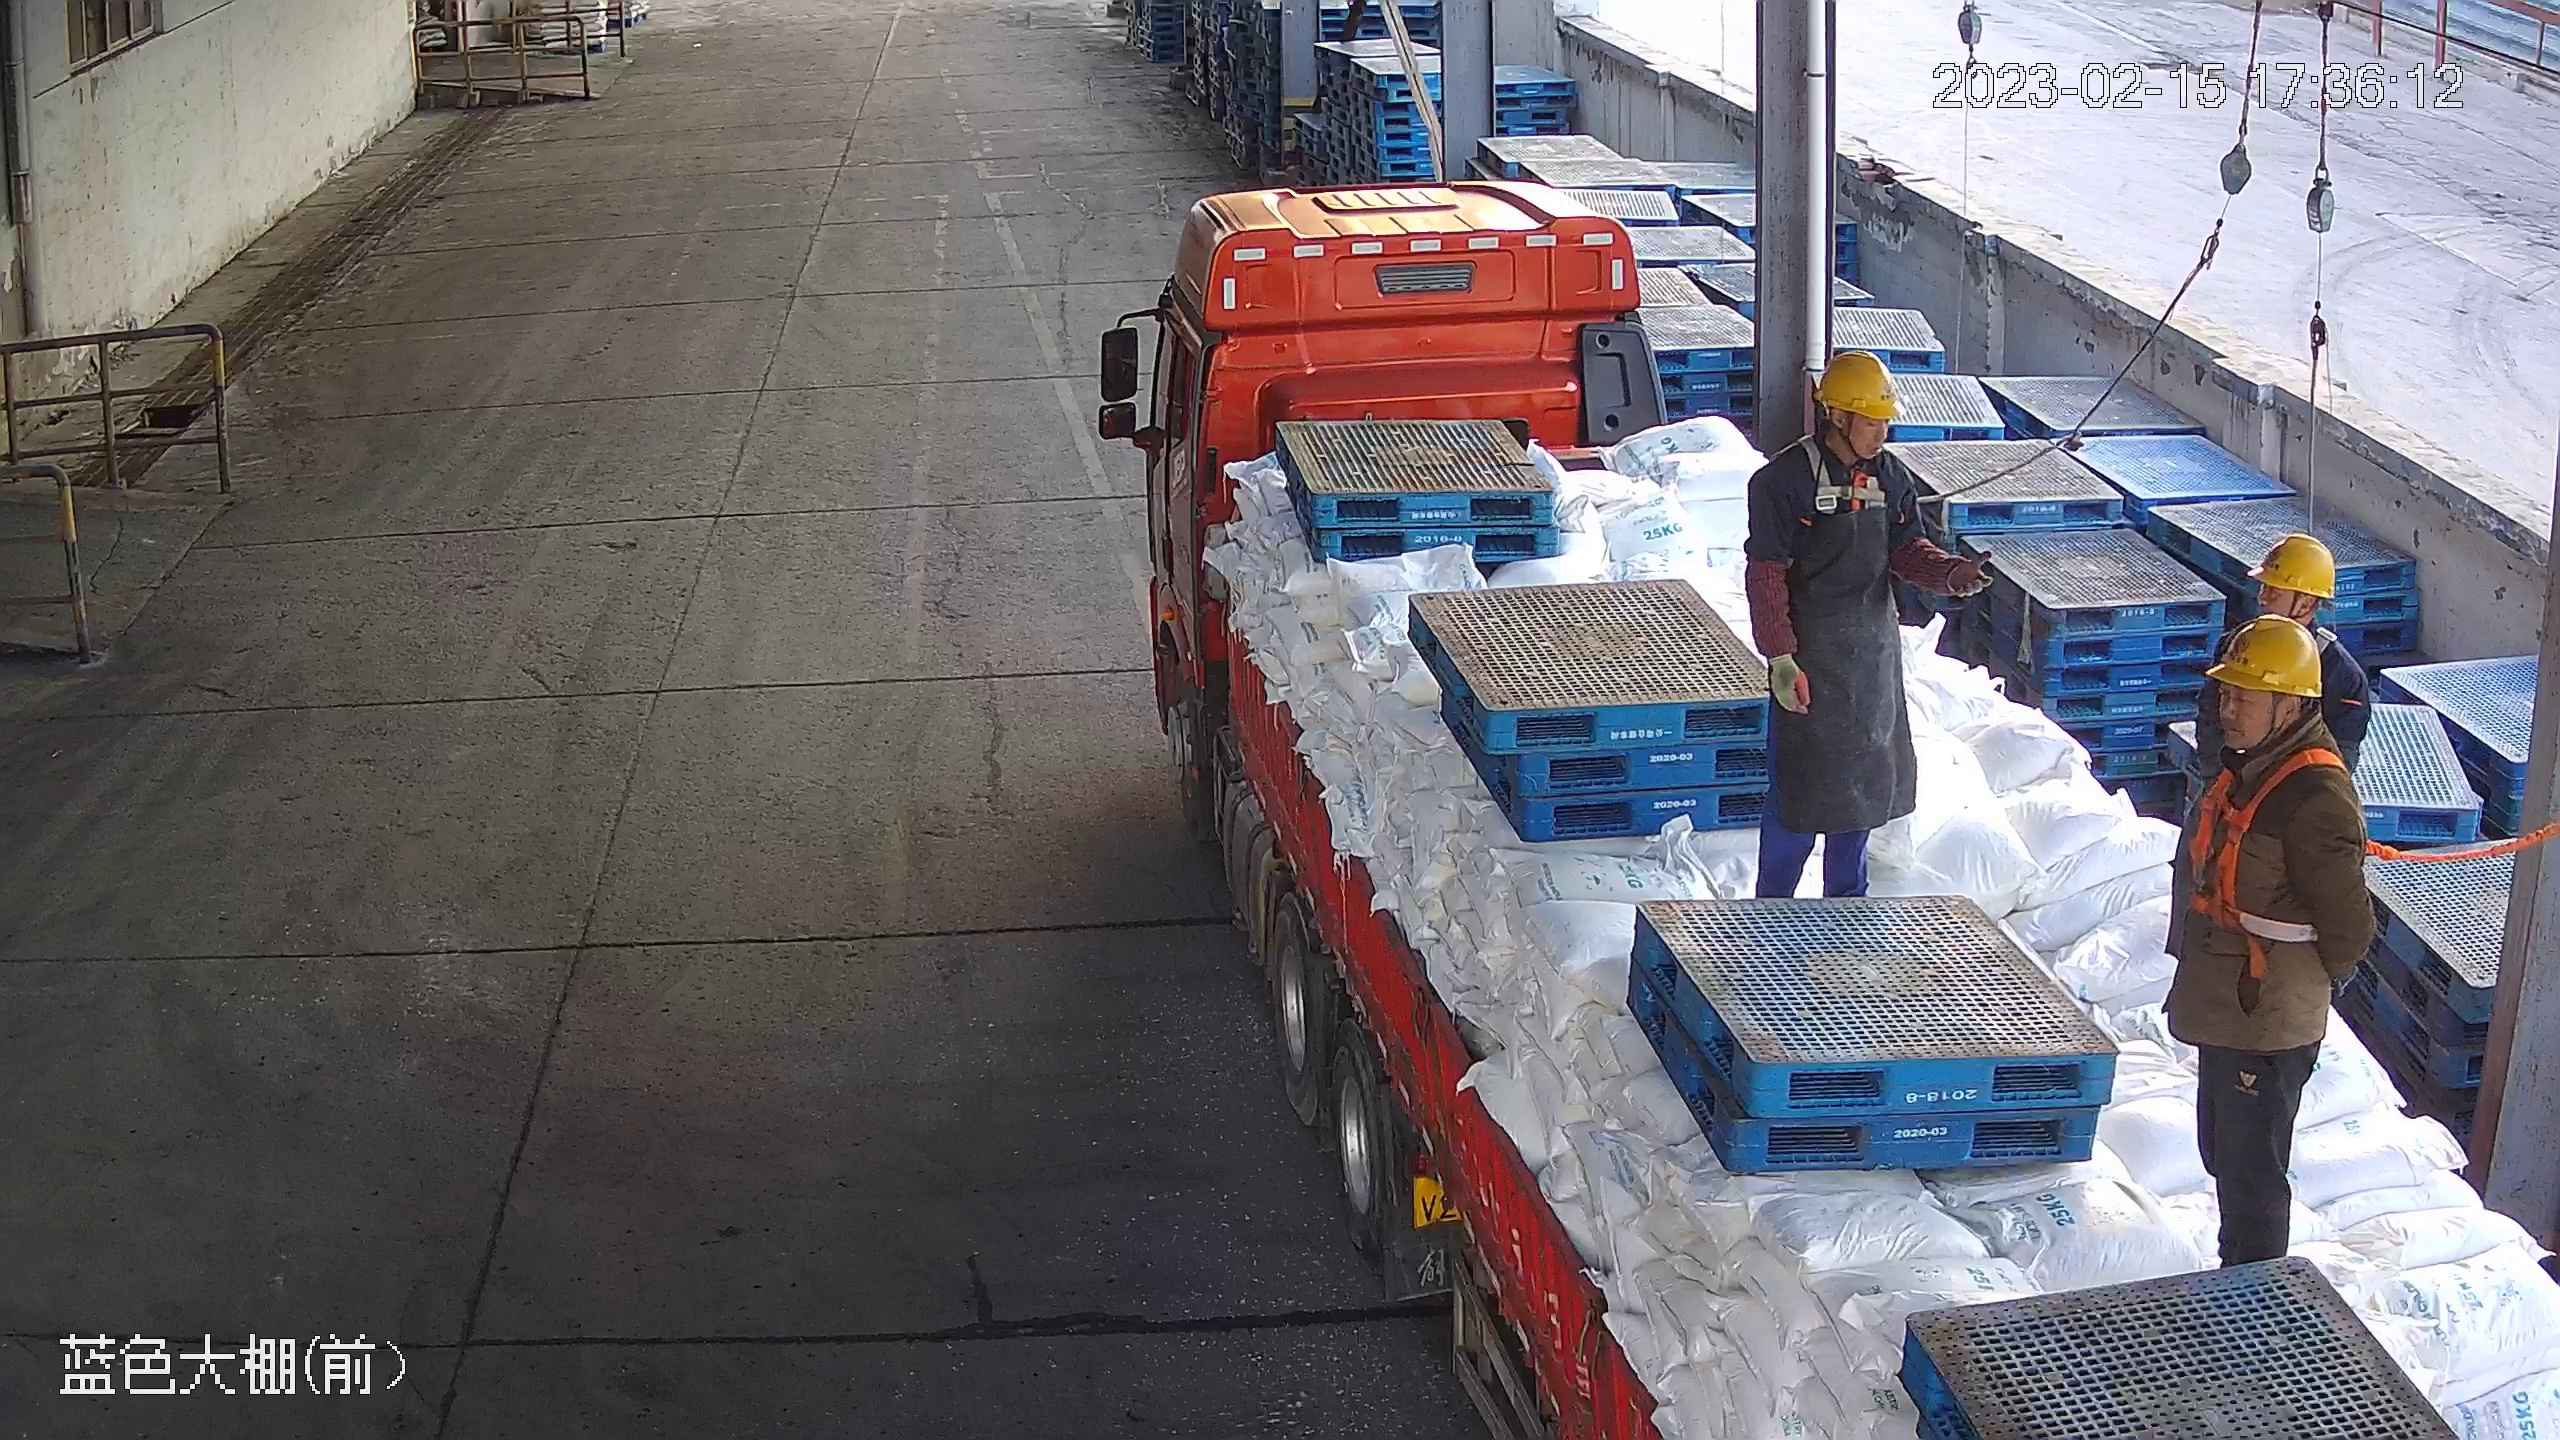belt: (2190, 747, 2390, 939), (1801, 439, 1905, 533)
head: (2179, 610, 2366, 842), (1764, 347, 1932, 528), (2213, 533, 2371, 693)
helmet: (2203, 617, 2327, 705), (1813, 350, 1903, 425), (2249, 530, 2337, 605)
people: (1742, 350, 1996, 906), (2164, 613, 2379, 1267)
truck: (1091, 176, 2560, 1440)
